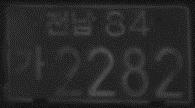2: (52, 45, 83, 98), (86, 46, 116, 98), (154, 46, 184, 98)
4: (128, 9, 151, 37)
8: (120, 46, 149, 98), (104, 10, 126, 37)
가: (11, 44, 46, 81)
전남_O: (45, 9, 97, 36)
